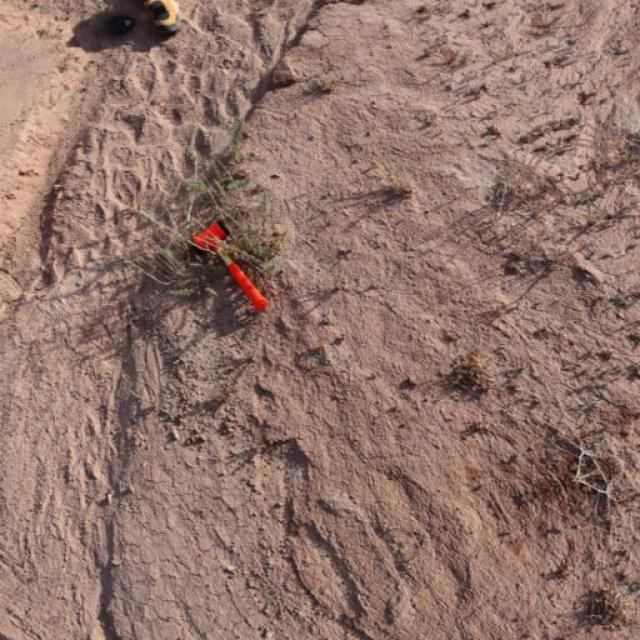mallet: (190, 218, 269, 312)
